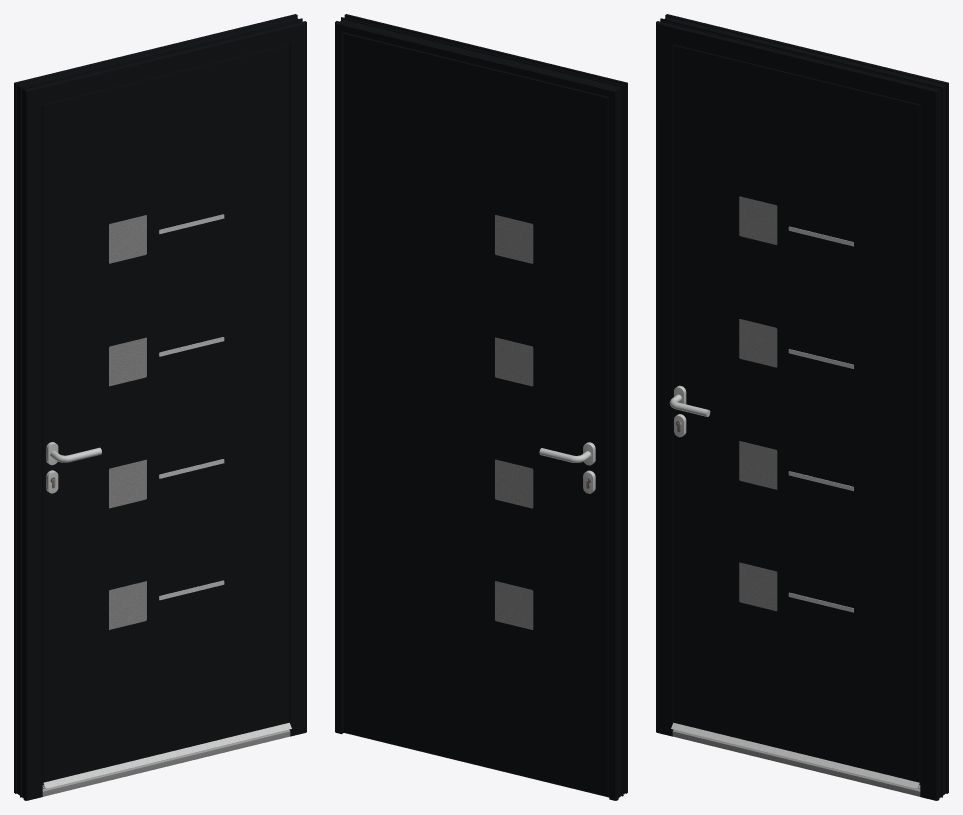
3 views of the same model, side by side, from view 1: azimuth 30°, elevation 25°; view 2: azimuth 150°, elevation 25°; view 3: azimuth 330°, elevation 25° (orthographic).
Visible parts, largest first — view 1: bloco_29, aroFixo, Plane001, aroMovel, rodapé, escovas, alunox_19, puxador001; view 2: bloco_29, aroFixo, Plane002, aroMovel, puxador; view 3: bloco_29, aroFixo, Plane001, aroMovel, rodapé, escovas, alunox_19, puxador001.
Boxes of the visible parts, x1,y1,x2,y2 form: bloco_29: (44, 46, 289, 782); aroFixo: (14, 14, 306, 800); Plane001: (109, 215, 146, 629); aroMovel: (42, 44, 289, 784); rodapé: (42, 729, 290, 796); escovas: (42, 722, 291, 788); alunox_19: (159, 214, 224, 600); puxador001: (46, 442, 101, 493); bloco_29: (344, 34, 607, 795); aroFixo: (335, 14, 627, 800); Plane002: (495, 215, 533, 629); aroMovel: (343, 32, 609, 796); puxador: (539, 442, 595, 493); bloco_29: (673, 46, 918, 782); aroFixo: (656, 14, 948, 800); Plane001: (739, 196, 777, 610); aroMovel: (673, 44, 920, 784); rodapé: (672, 729, 920, 796); escovas: (671, 722, 920, 788); alunox_19: (788, 226, 853, 612); puxador001: (669, 385, 710, 437).
Bounding box in the file's own units: 900 × 2165 × 209.
Materials: 7 (3 with a texture image).
